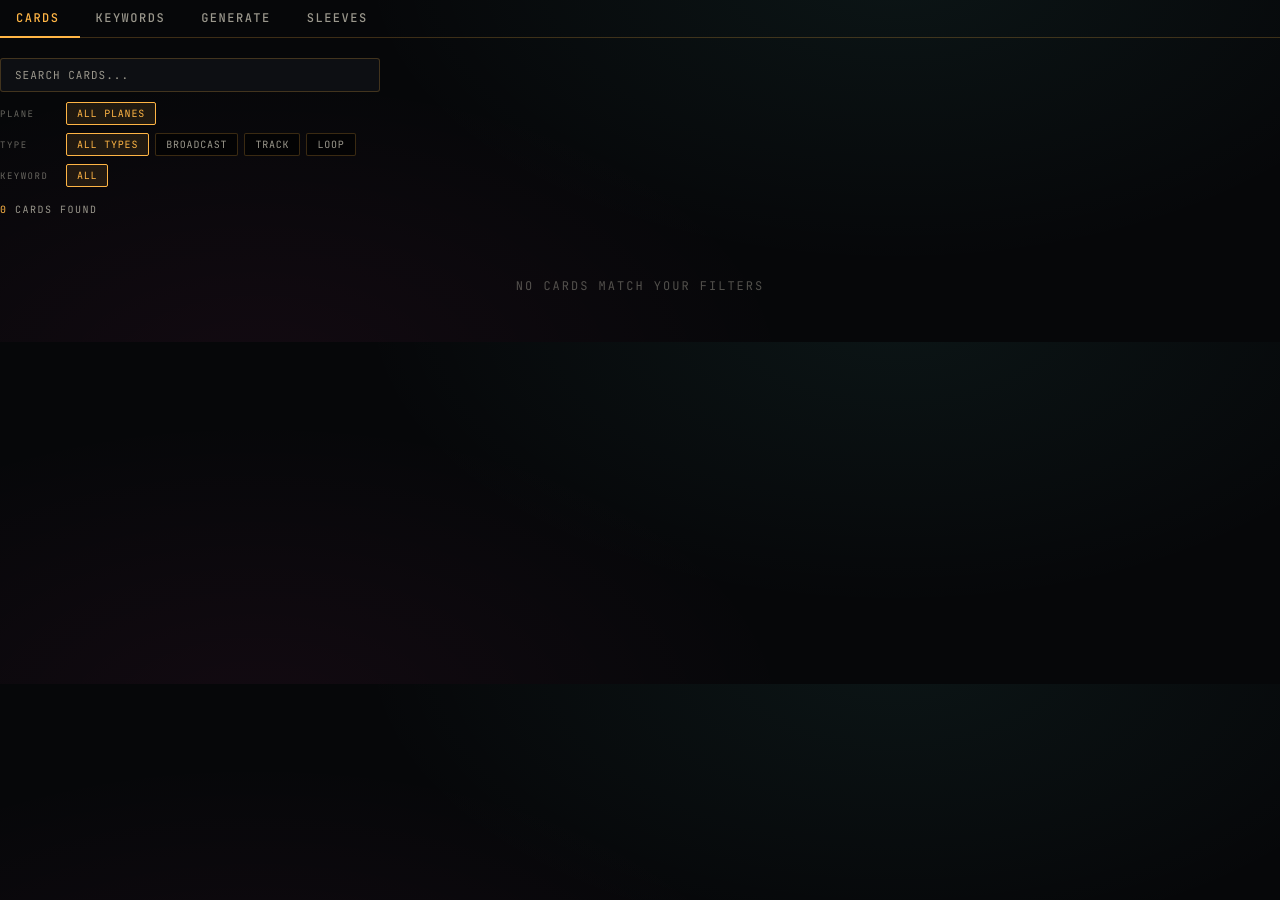
Test: CodexView › renders keyword meanings on the KEYWORDS tab
The image size is (1280, 900).
Click the button "KEYWORDS" at (132, 19), box [80,0,185,38]
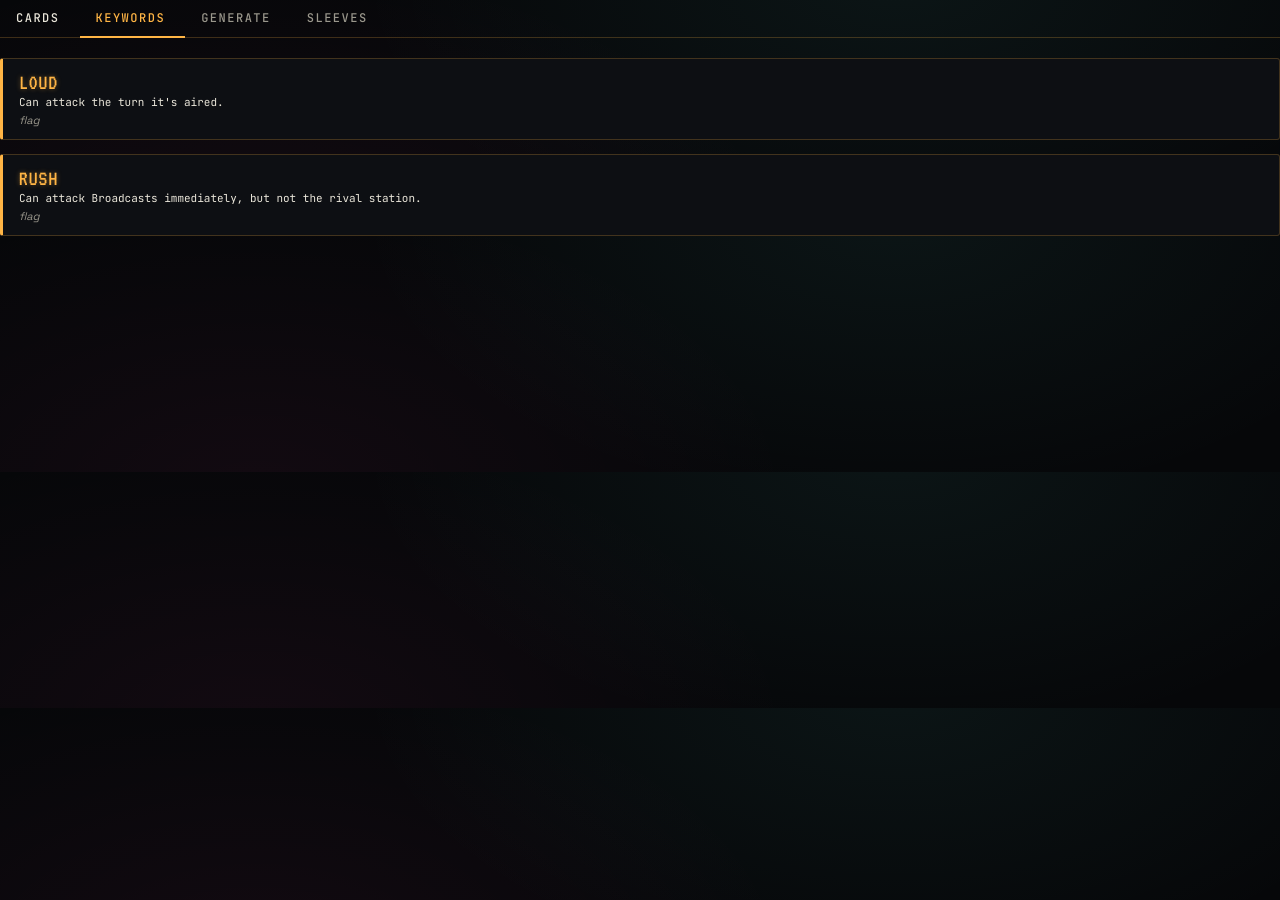
Expected: the text "Can attack the turn it's aired." is shown, [19,95,224,109]
Expected: the text "Can attack Broadcasts immediately, but not the rival station." is shown, [19,191,422,205]
